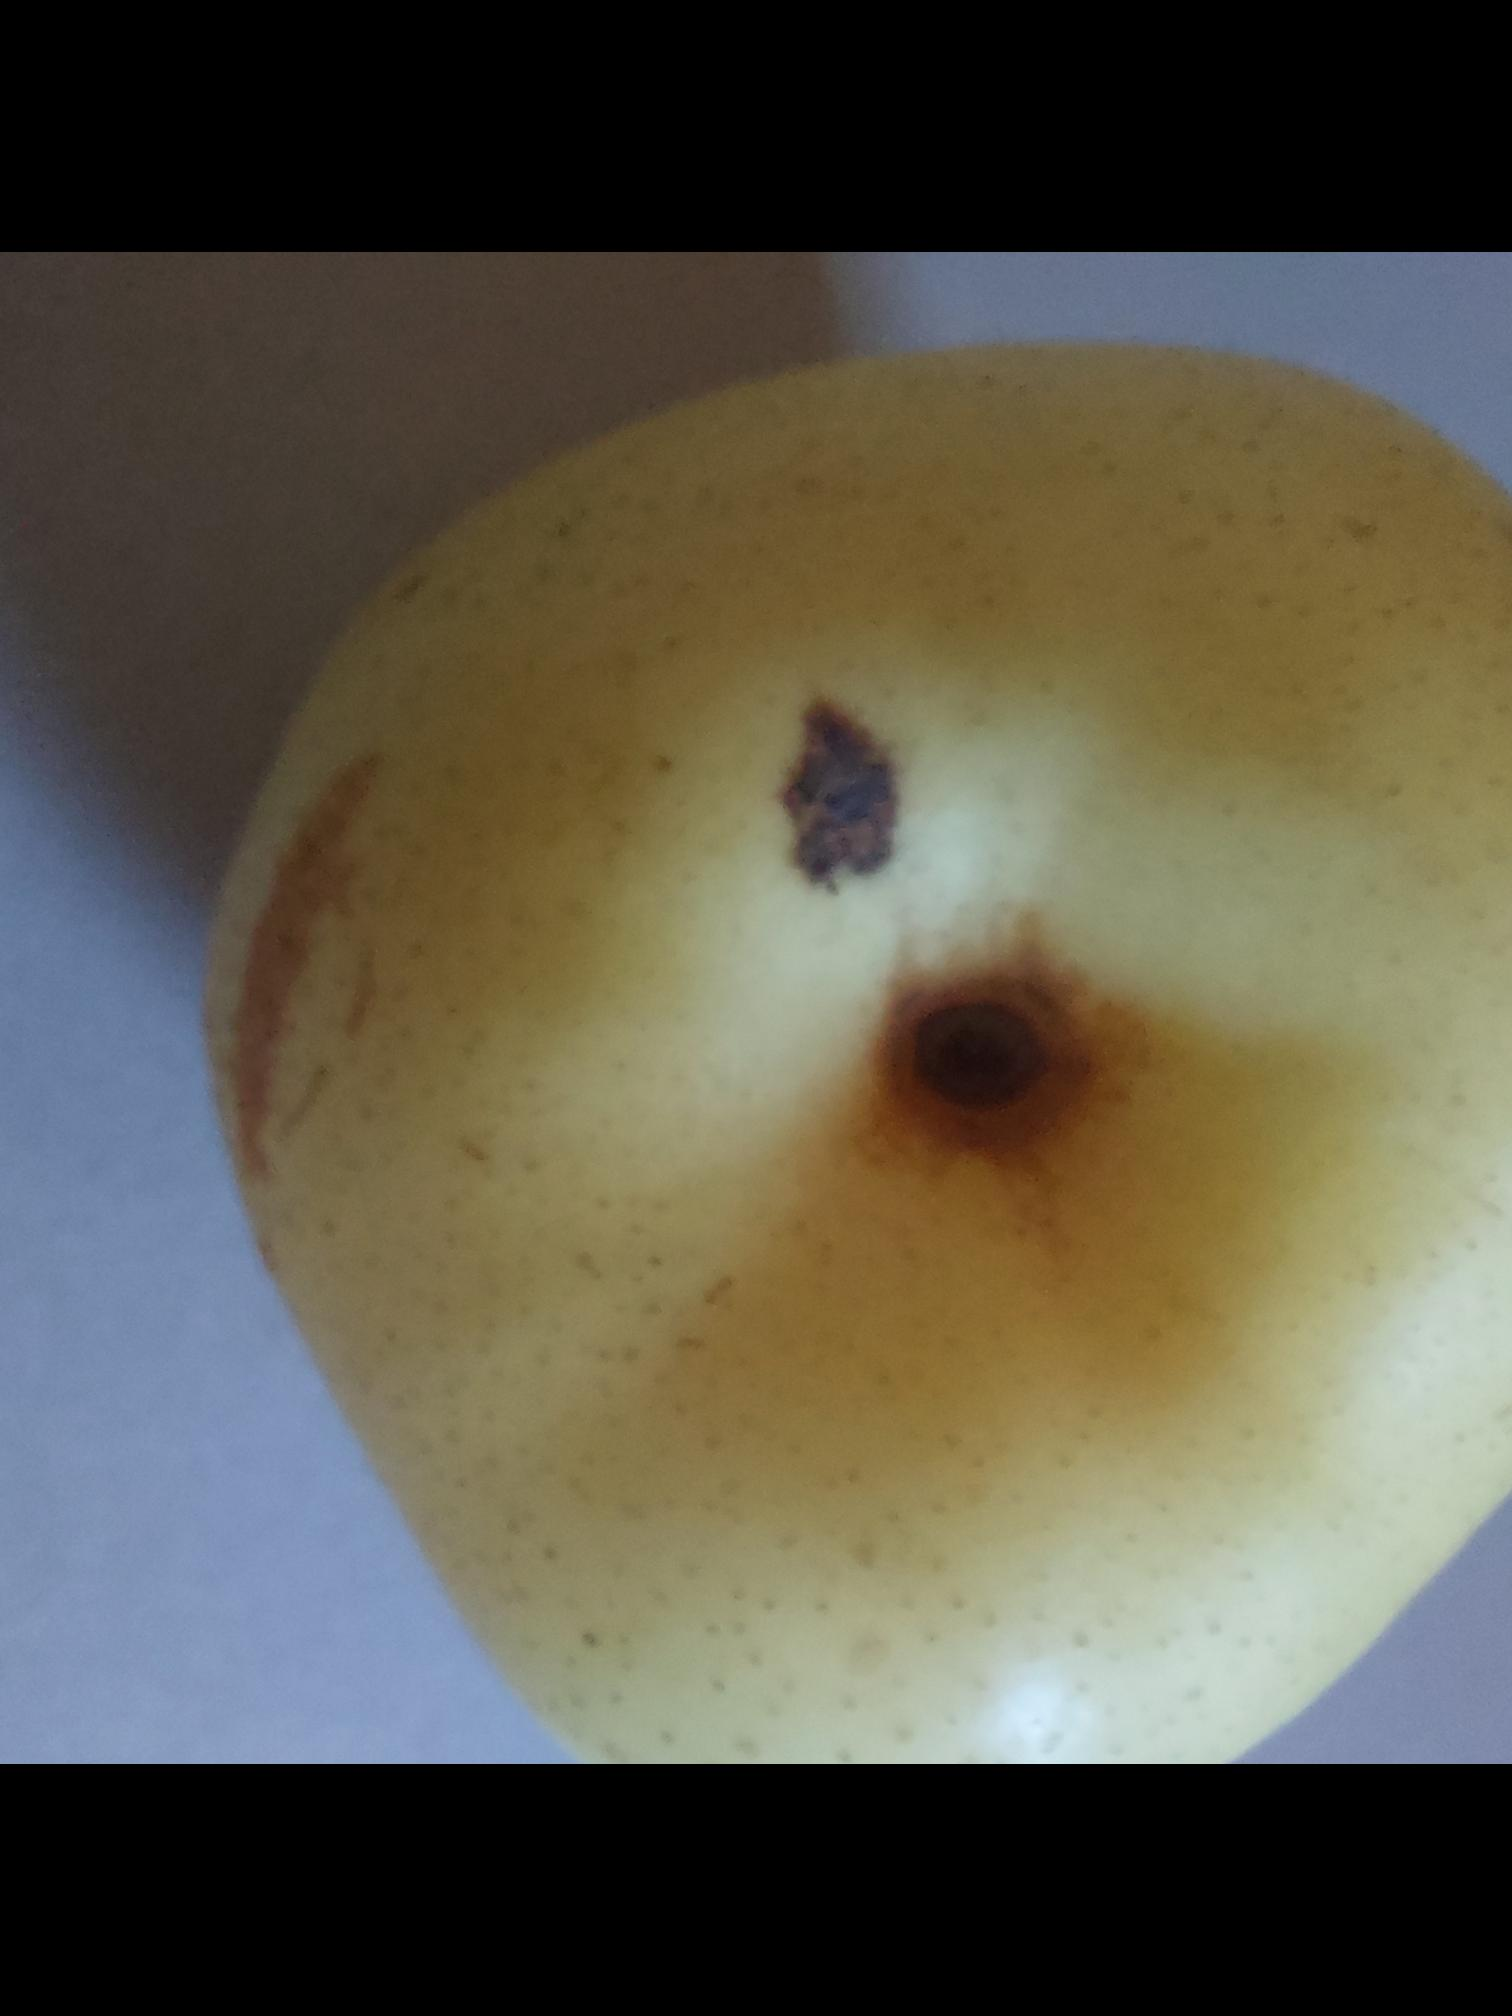Good Pear: (83, 252, 1512, 1764)
